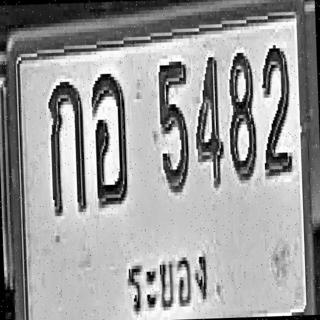A01: (46, 80, 86, 214)
A43: (90, 72, 128, 206)
N02: (260, 43, 292, 174)
N04: (192, 53, 224, 188)
N05: (157, 58, 190, 193)
N08: (227, 49, 257, 180)
P53: (118, 240, 218, 320)
